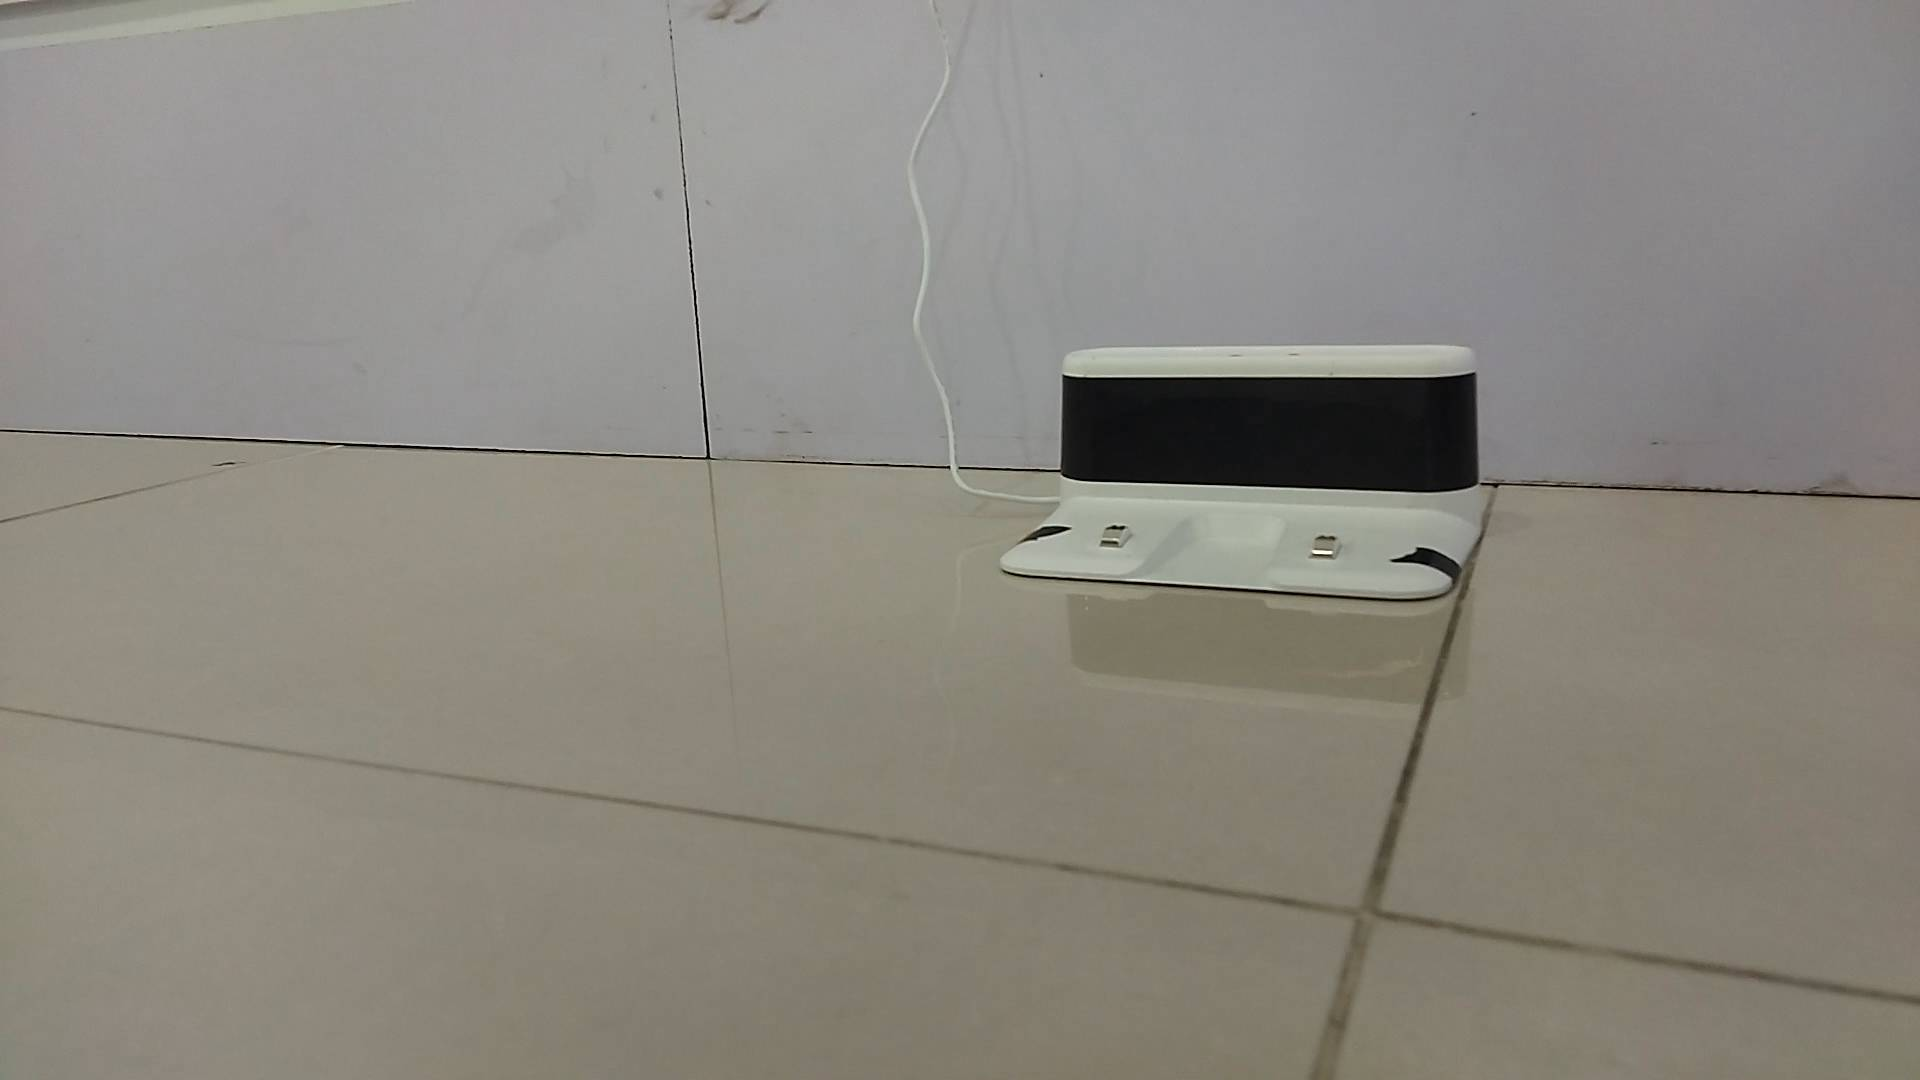recharge seat: (1000, 342, 1484, 603)
